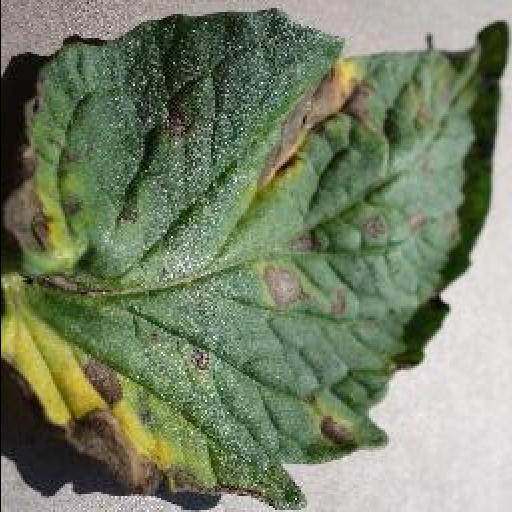disease_tomato: (0, 14, 506, 512)
